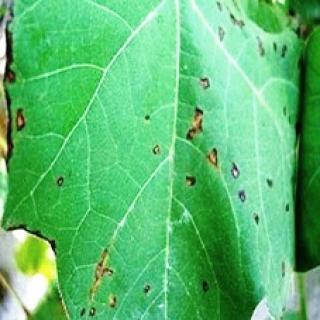blight: (170, 56, 296, 226), (3, 19, 73, 221), (84, 244, 164, 312)
